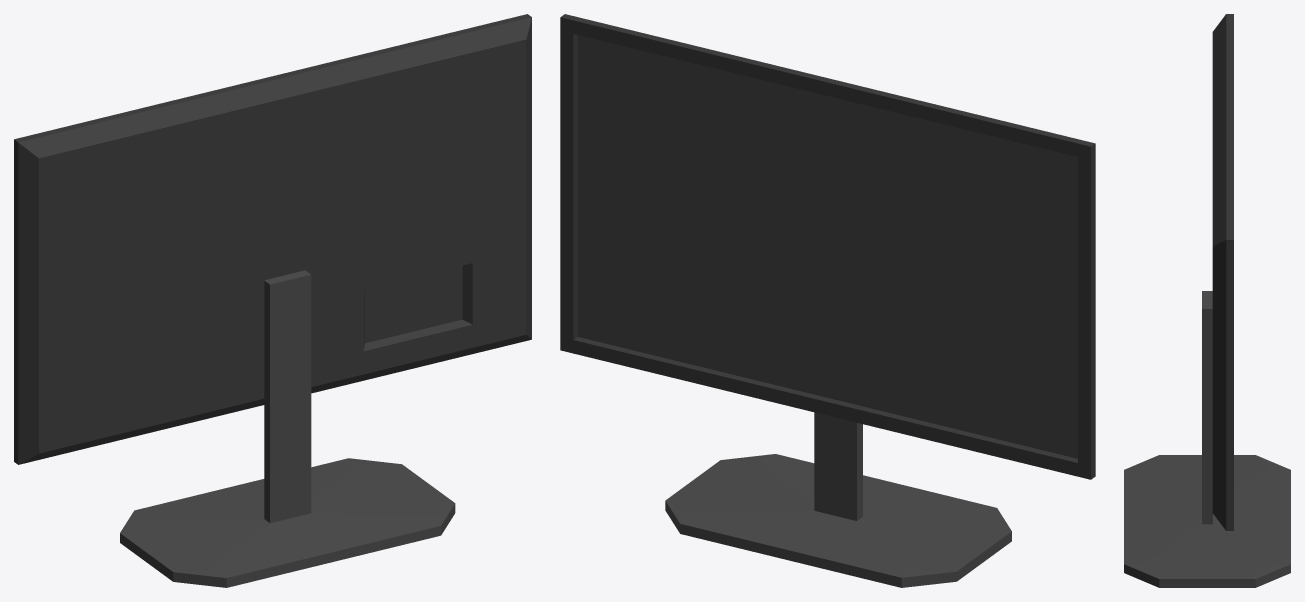
Rendered from Monitor.fbx.
3 renders of one model, left to right at view 1: azimuth 30°, elevation 25°; view 2: azimuth 150°, elevation 25°; view 3: azimuth 270°, elevation 25°, orthographic. The views are drawn at different scales.
Visible parts, largest first — view 1: Monitor; view 2: Monitor; view 3: Monitor.
Part boxes in pixels (x1,y1,x2,y2): Monitor: (14,14,531,587); Monitor: (560,14,1095,587); Monitor: (1124,14,1290,587).
Size of the model in its own units: 50 by 41.23 by 15.59.
